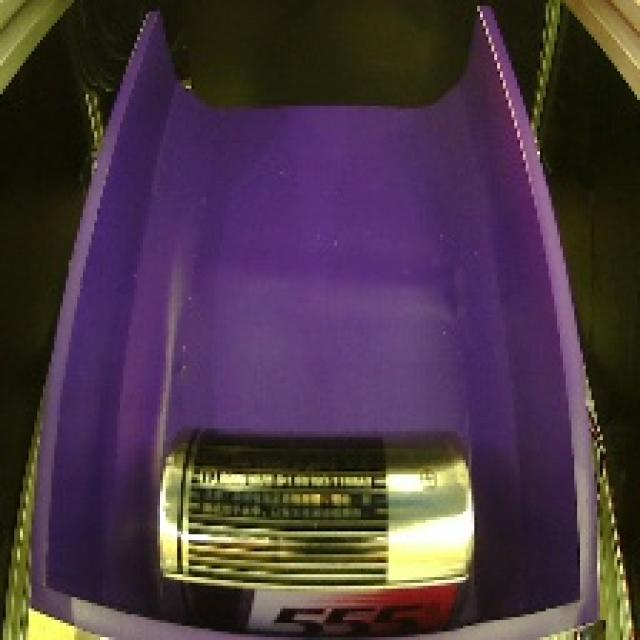battery: (142, 414, 483, 640)
